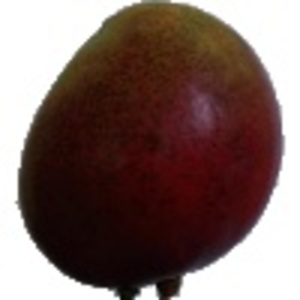manga: (17, 1, 285, 300)
